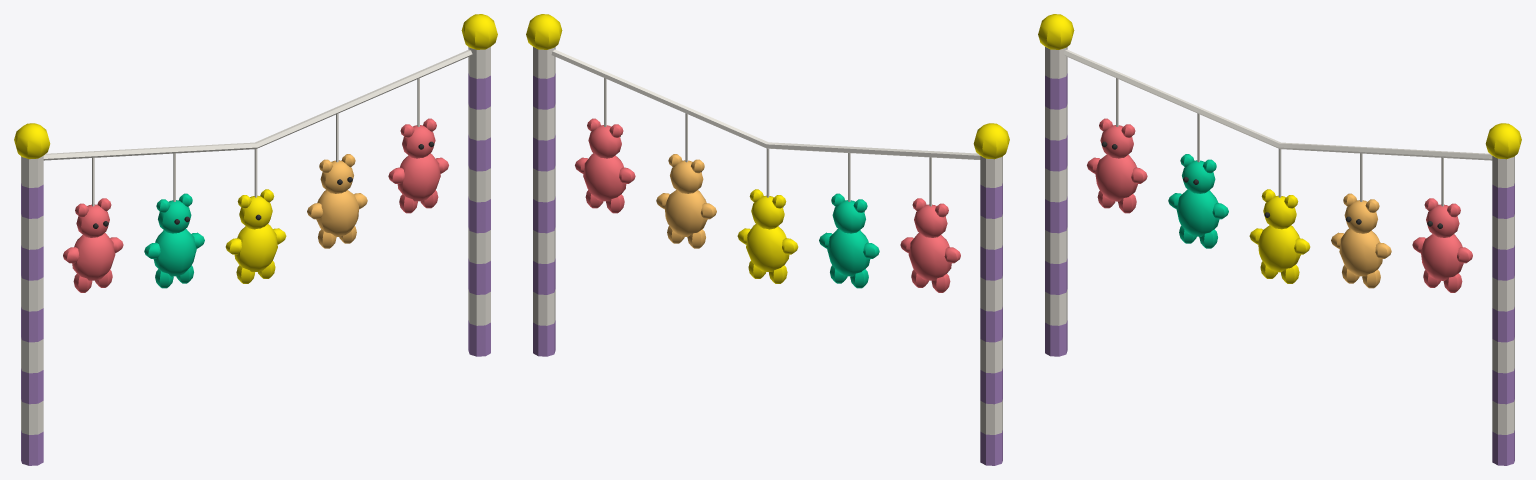
File: TW_HangingJellyBears.fbx
The picture shows the model from 3 angles, left to right: view 1: azimuth 30°, elevation 25°; view 2: azimuth 150°, elevation 25°; view 3: azimuth 330°, elevation 25°; orthographic projection.
Parts seen in each view (by area): view 1: Body; view 2: Body; view 3: Body.
Boxes of the visible parts, box(x1,y1,x2,y2) form: Body: box(14, 14, 497, 465); Body: box(526, 14, 1009, 465); Body: box(1038, 14, 1521, 465).
Bounding box in the file's own units: 4.72 × 3.16 × 0.32.
